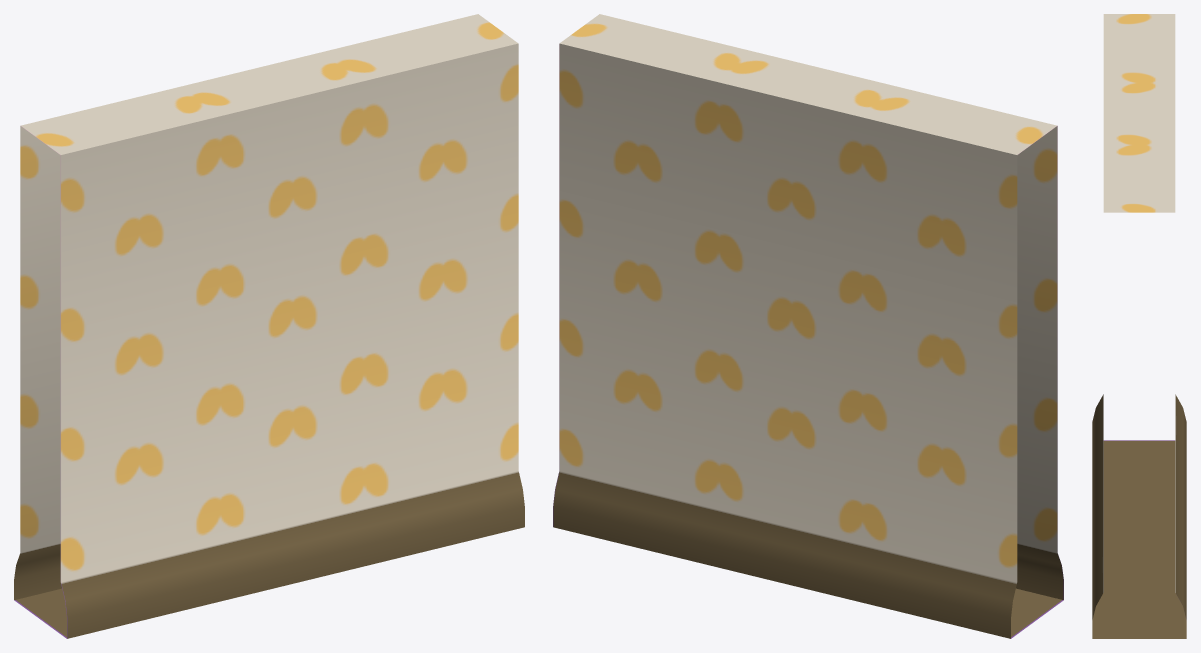
File: Wall.FBX
3 views of the same model, side by side, from view 1: azimuth 30°, elevation 25°; view 2: azimuth 150°, elevation 25°; view 3: azimuth 270°, elevation 25° (orthographic). The views are drawn at different scales.
Parts seen in each view (by area): view 1: Meur; view 2: Meur; view 3: Meur.
Boxes of the visible parts, x1,y1,x2,y2 form: Meur: (14,14,524,638); Meur: (553,14,1063,638); Meur: (1092,14,1186,638).
Size of the model in its own units: 250 by 250 by 50.
Materials: 1 (1 with a texture image).
